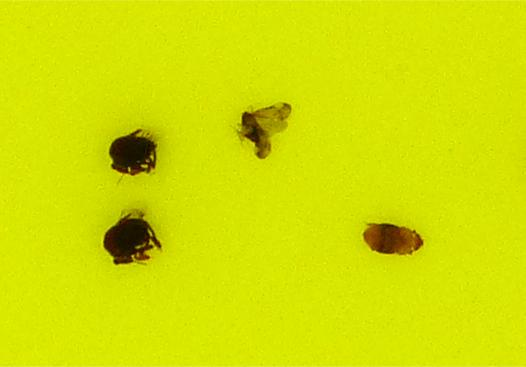Coleoptera: (100, 207, 164, 267), (106, 126, 160, 178), (360, 220, 426, 257)
Hemiptera: (234, 100, 293, 161)
